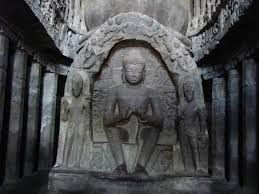Figure of Buddha, Ellora: (4, 2, 257, 191)
